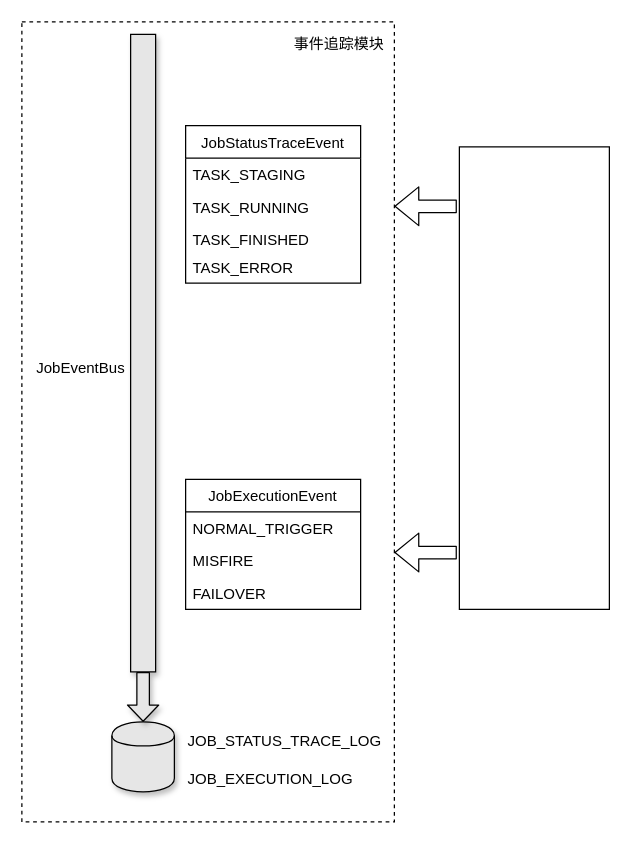
Some shapes in this 631 by 844 pixel diagram are drawn without their labels. The shapes that lost their labels are listed below. From the top down, each one's centre as x and y in pixels, then its label:
the point at 533,377: 作业执行过程
the point at 144,758: DB
